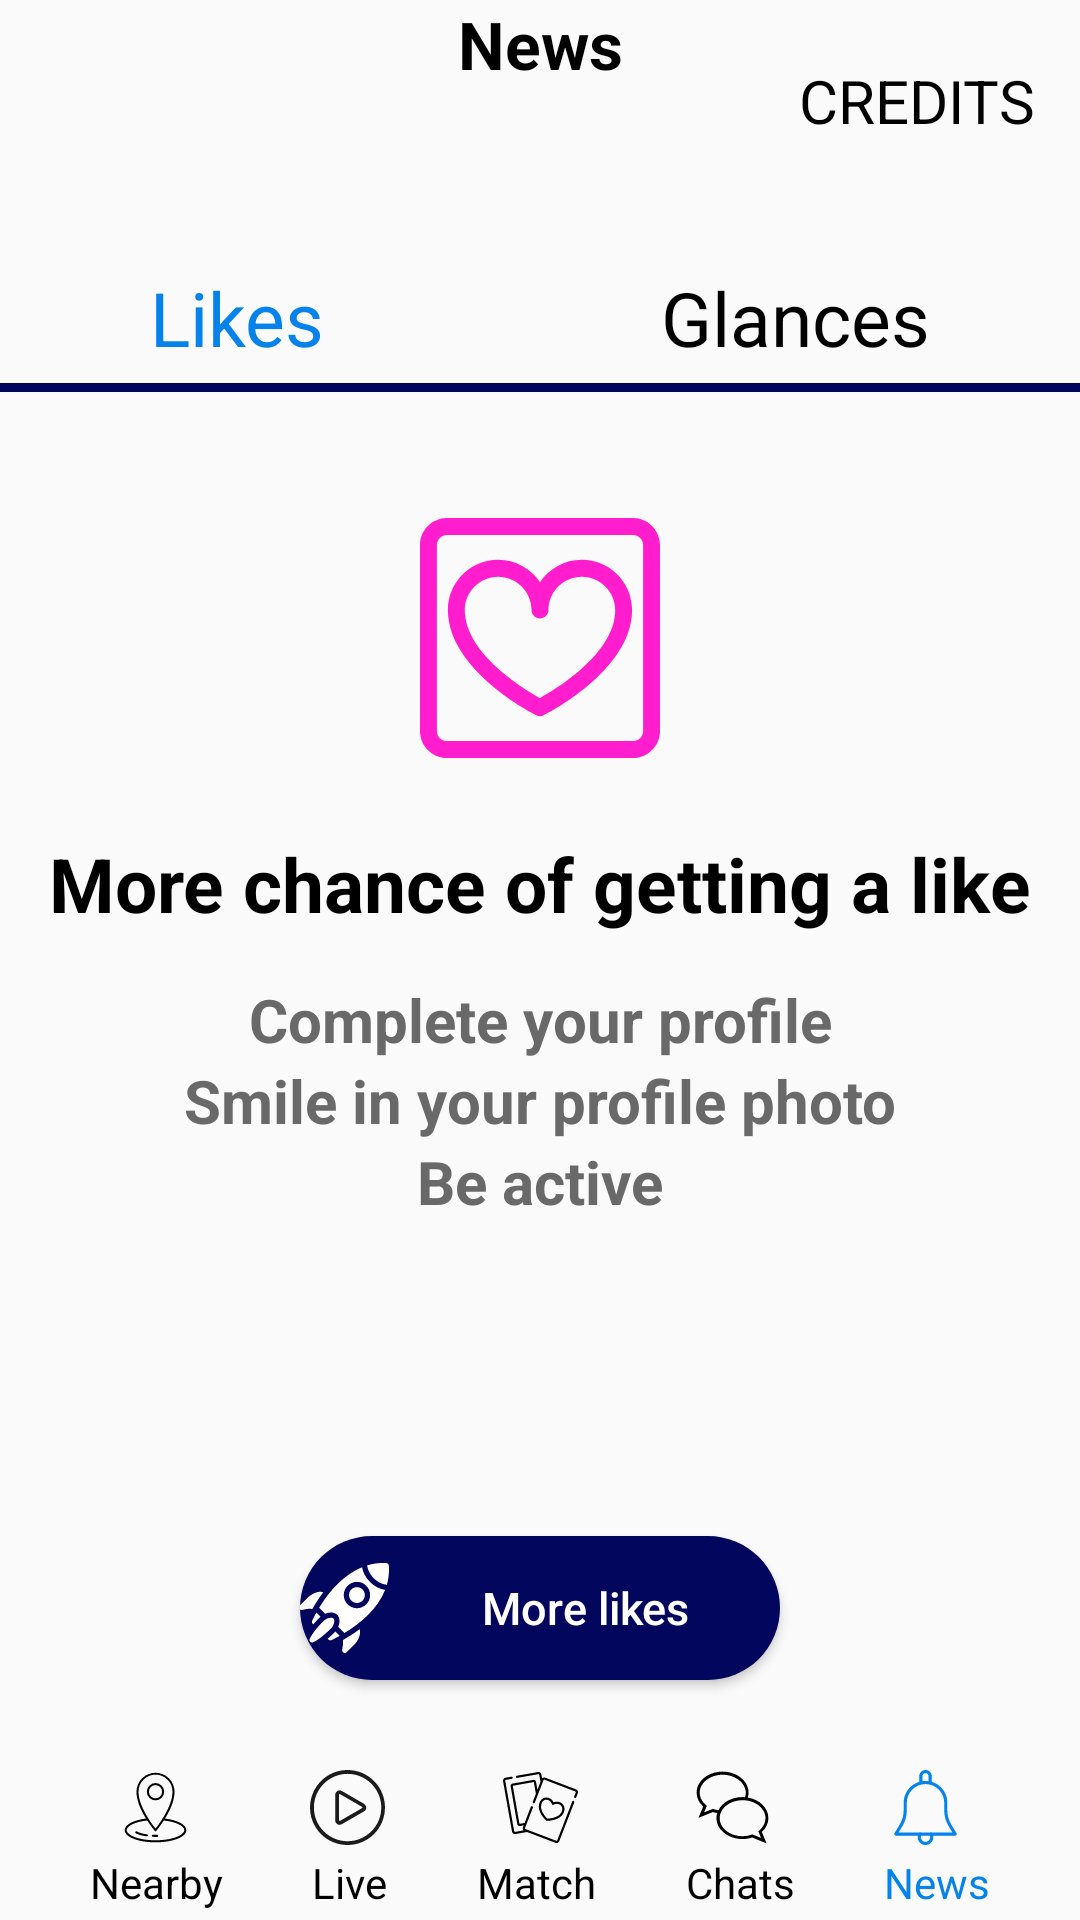

Icon click points for this 1080px x 1920px phone screenshot, format [x,y]:
heart in square: [540,638]
